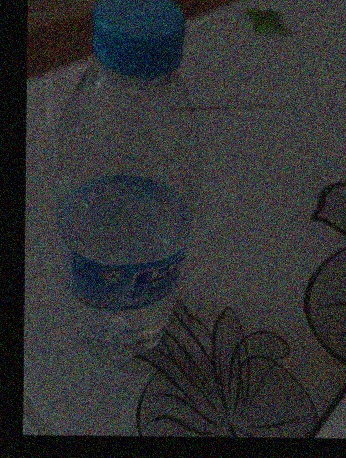bottle: (47, 48, 214, 458)
